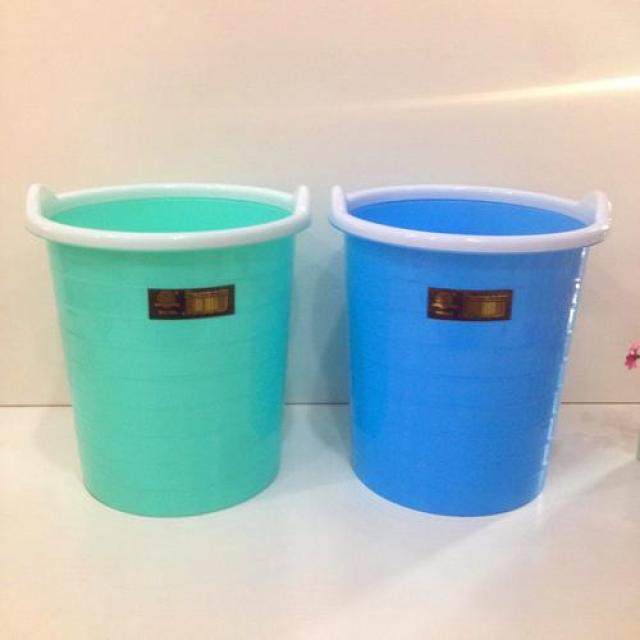dustbin: (16, 174, 320, 521), (325, 164, 615, 523)
